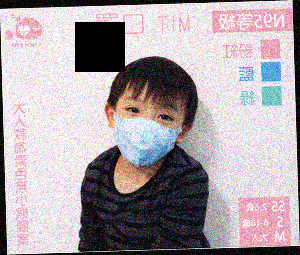with_mask: (112, 93, 185, 168)
